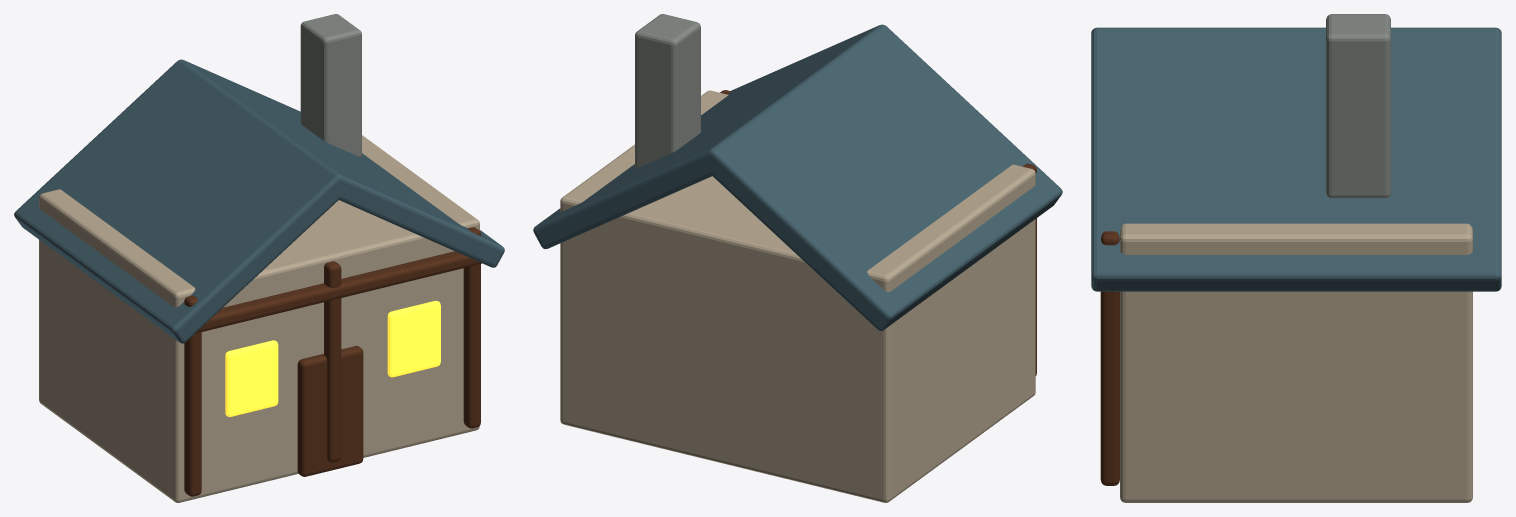
The model's file is SM_Shop.fbx.
The picture shows the model from 3 angles, left to right: view 1: azimuth 30°, elevation 25°; view 2: azimuth 150°, elevation 25°; view 3: azimuth 270°, elevation 25°; orthographic projection. The views are drawn at different scales.
Visible parts, largest first — view 1: SM_Shop; view 2: SM_Shop; view 3: SM_Shop.
Part boxes in pixels (<box>): SM_Shop: <box>14,14,504,502</box>; SM_Shop: <box>533,14,1062,502</box>; SM_Shop: <box>1091,14,1501,502</box>.
Size of the model in its own units: 512 by 430 by 515.
